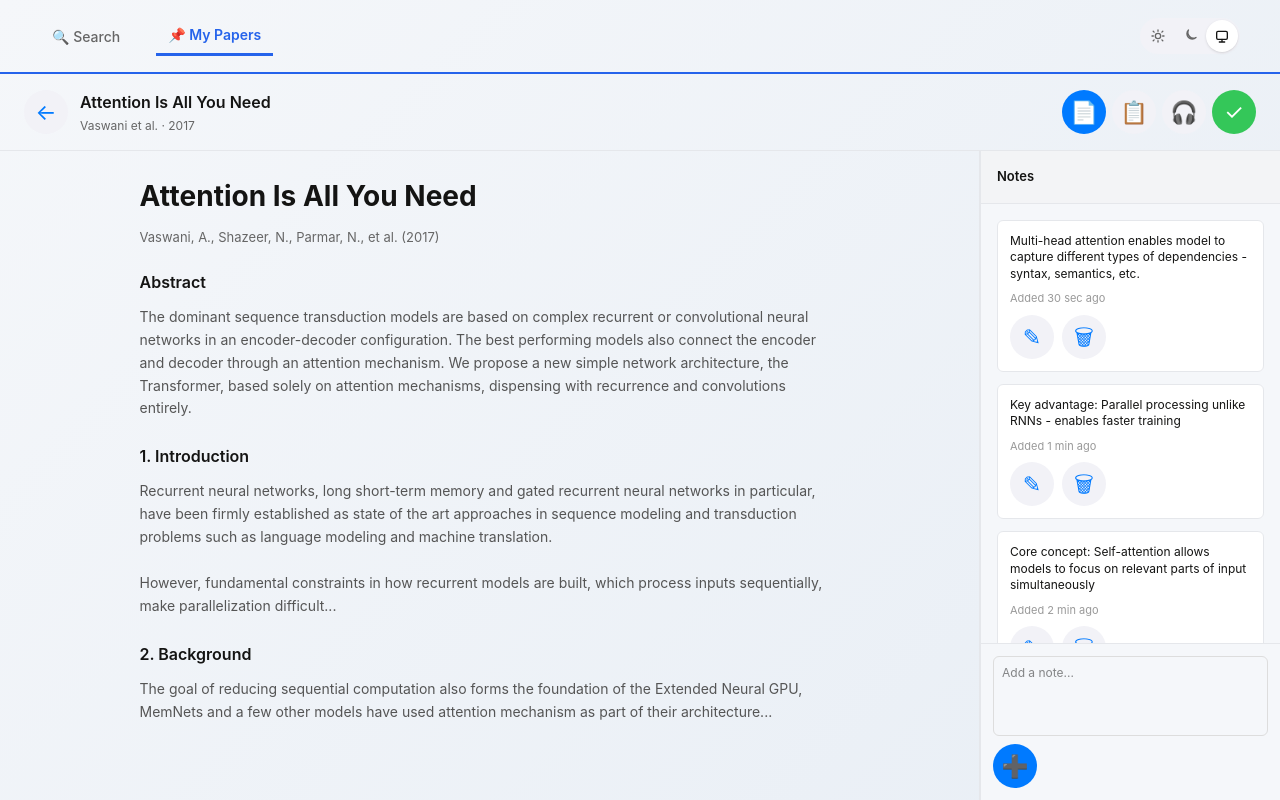
UX: Visual reader › When the user saves a typed note, Then it appears in the sidebar
Type "Parallelism is the main claim" into the text box with placeholder "Add a note..." at (1130, 696), box [993,656,1268,736]
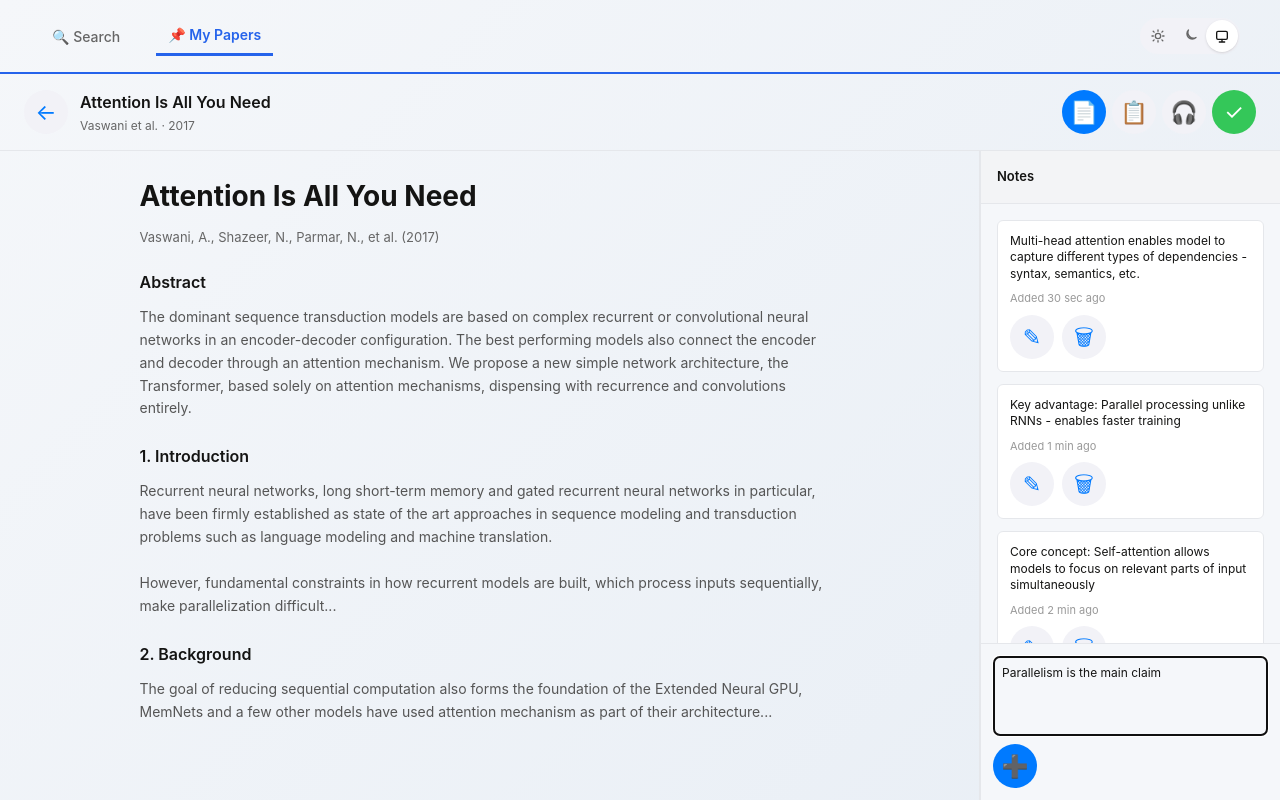
Click the button named "add note" at (1015, 766), box [993,744,1037,788]
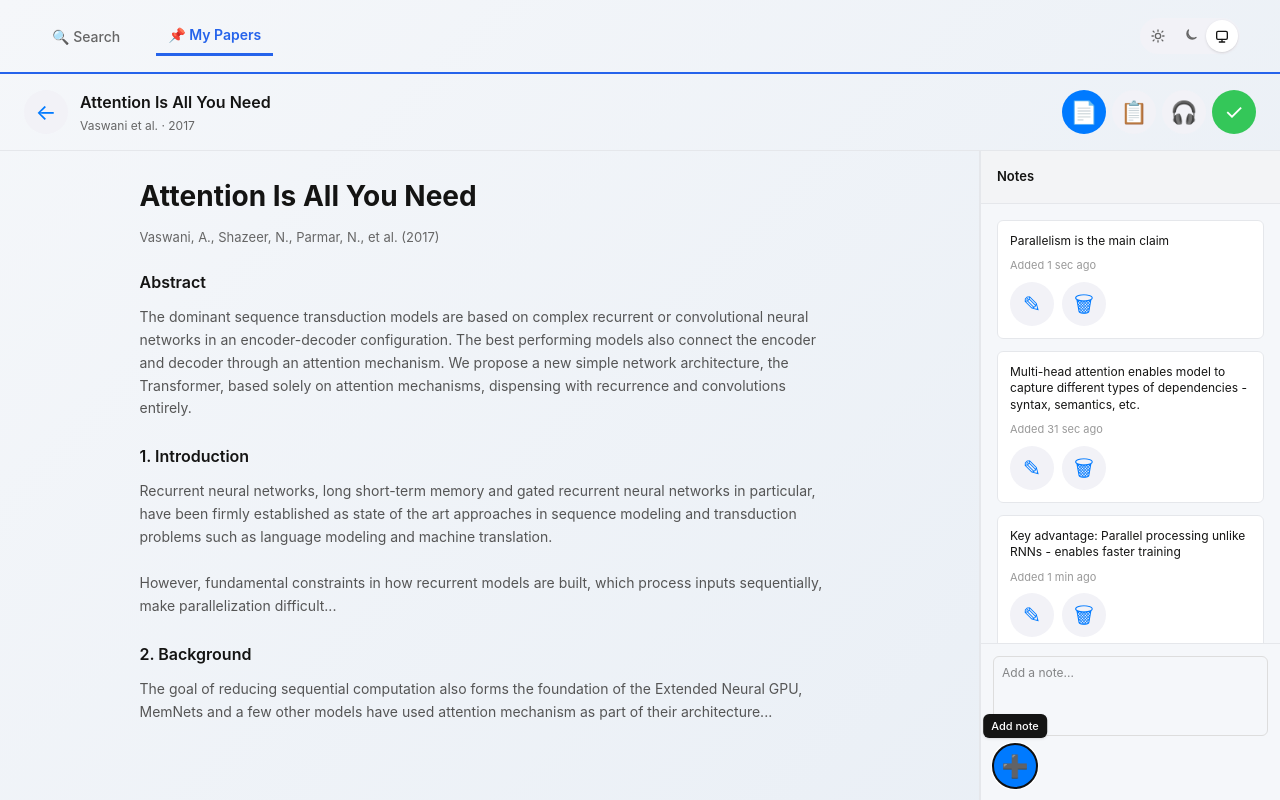
Expected: the text "Parallelism is the main claim" is shown, [1010,232,1169,248]
